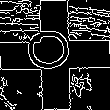O_E: (29, 33, 81, 77)
